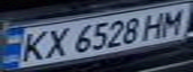2: (106, 17, 130, 48)
5: (90, 19, 112, 52)
6: (72, 21, 96, 54)
8: (121, 15, 145, 45)
H: (139, 10, 172, 40)
K: (15, 28, 51, 64)
M: (154, 6, 190, 36)
X: (39, 25, 72, 60)
